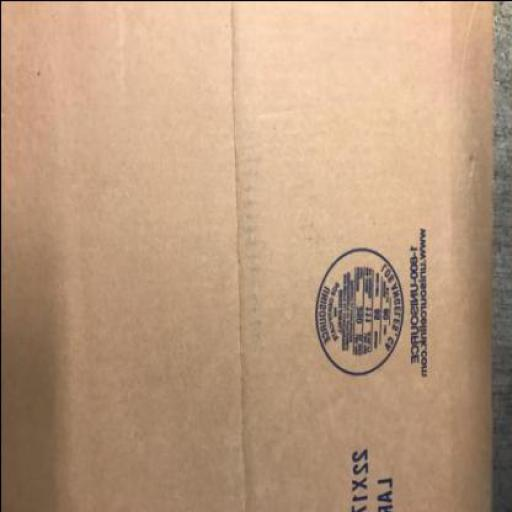cardboard: (1, 1, 495, 511)
